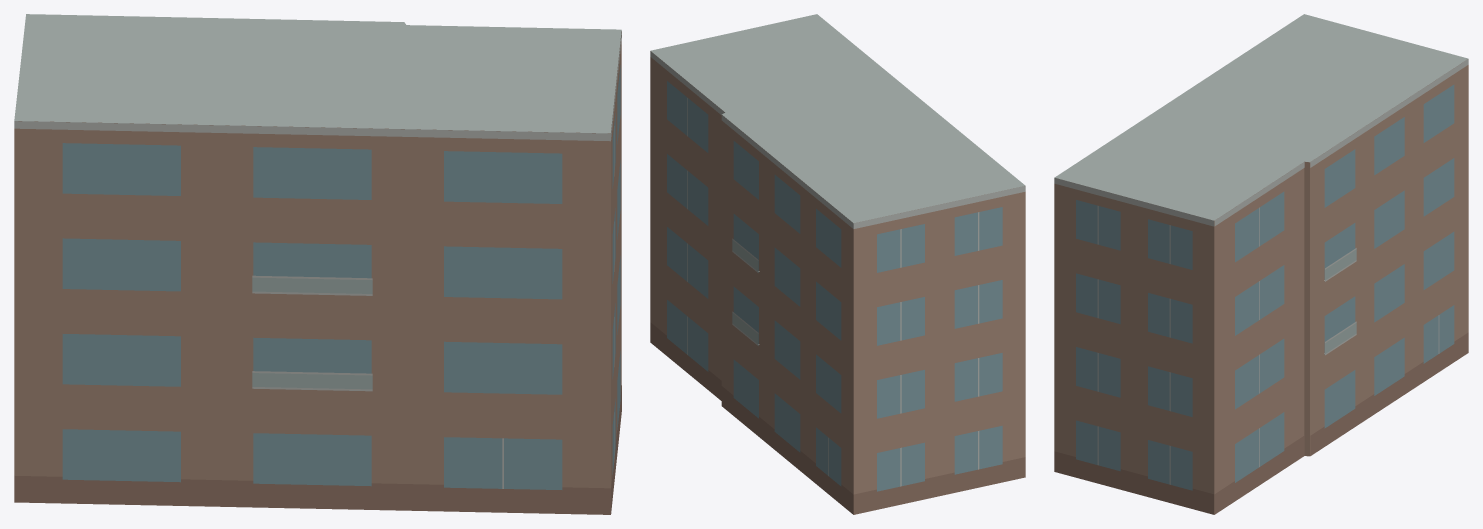
The model's file is survey-upis-32969503.glb.
3 views of the same model, side by side, from view 1: azimuth 30°, elevation 25°; view 2: azimuth 150°, elevation 25°; view 3: azimuth 270°, elevation 25° (orthographic). The views are drawn at different scales.
Visible parts, largest first — view 1: survey-upis-32969503.tmp; view 2: survey-upis-32969503.tmp; view 3: survey-upis-32969503.tmp.
Part boxes in pixels (x1,y1,x2,y2): survey-upis-32969503.tmp: (14,14,621,514); survey-upis-32969503.tmp: (650,14,1025,514); survey-upis-32969503.tmp: (1054,14,1468,514).
Bounding box in the file's own units: 18.09 × 12 × 15.32.
